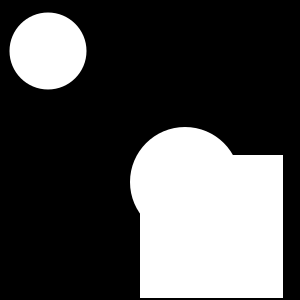circle: (140, 155, 283, 298)
rectangle: (130, 127, 240, 237), (10, 13, 86, 90)
